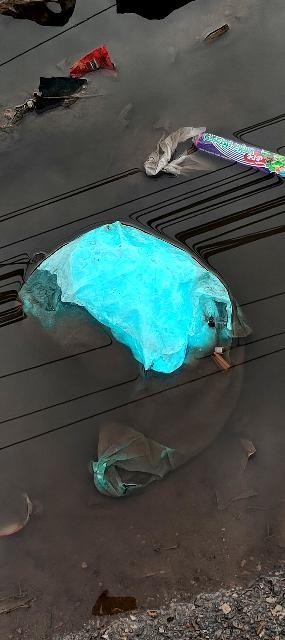polythene: (18, 225, 258, 495)
